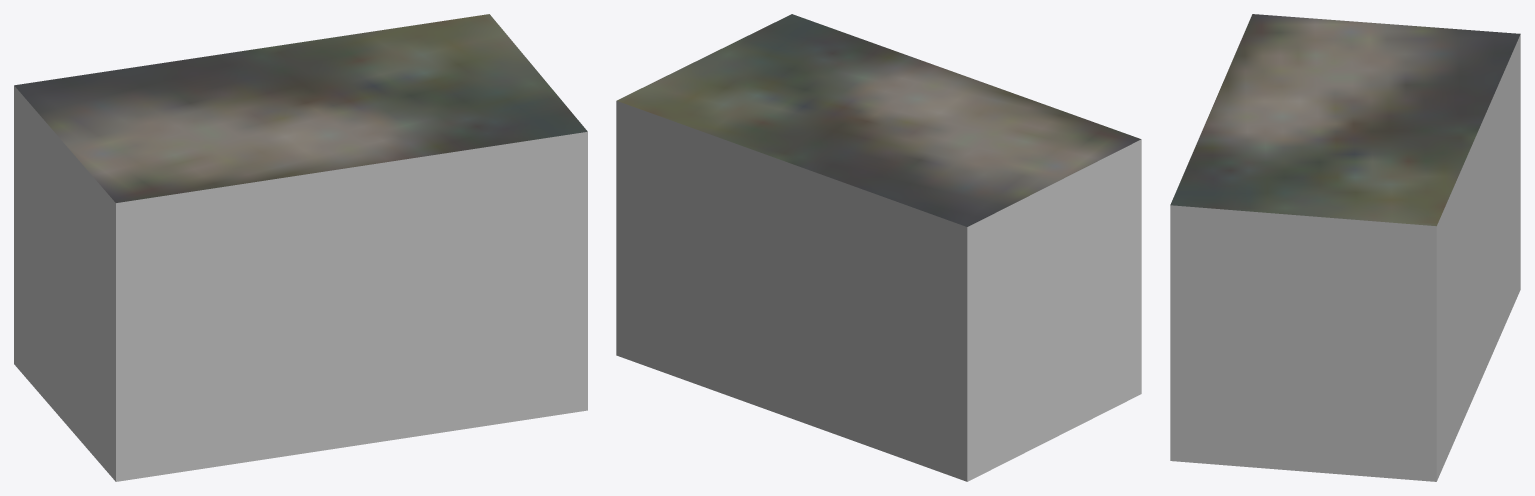
Rendered from DEBW_0010007TxaT.gltf.
The picture shows the model from 3 angles, left to right: view 1: azimuth 30°, elevation 25°; view 2: azimuth 150°, elevation 25°; view 3: azimuth 270°, elevation 25°; orthographic projection. The views are drawn at different scales.
Parts seen in each view (by area): view 1: Z_UP; view 2: Z_UP; view 3: Z_UP.
Boxes of the visible parts, left/top/right/bottom form: Z_UP: left=14, top=14, right=587, bottom=481; Z_UP: left=616, top=14, right=1141, bottom=481; Z_UP: left=1170, top=14, right=1520, bottom=481.
Bounding box in the file's own units: 5.56 × 3.12 × 3.88.
2 materials, 1 textured.
